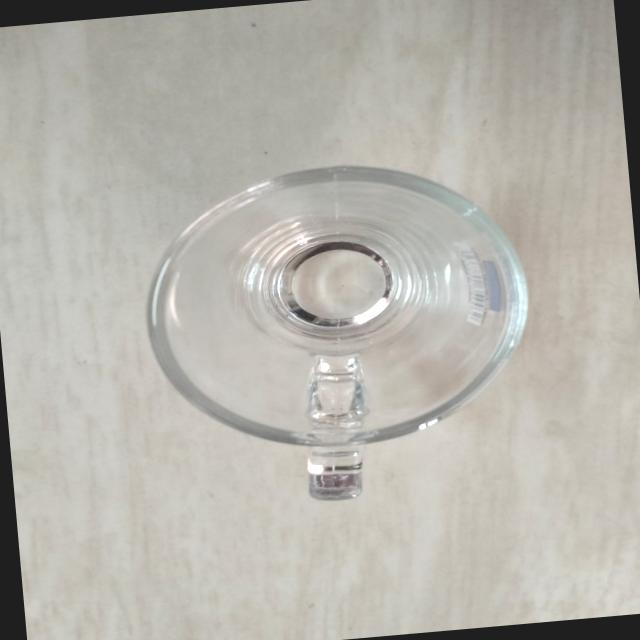glass-VX4N: (119, 138, 560, 534)
